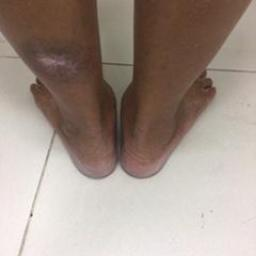Back View -Both Feet-: (16, 48, 231, 188)
